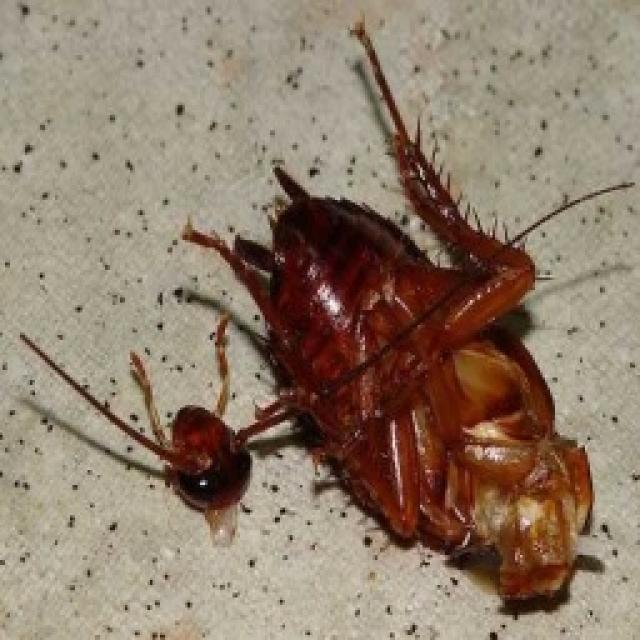cockroach: (57, 74, 631, 611)
